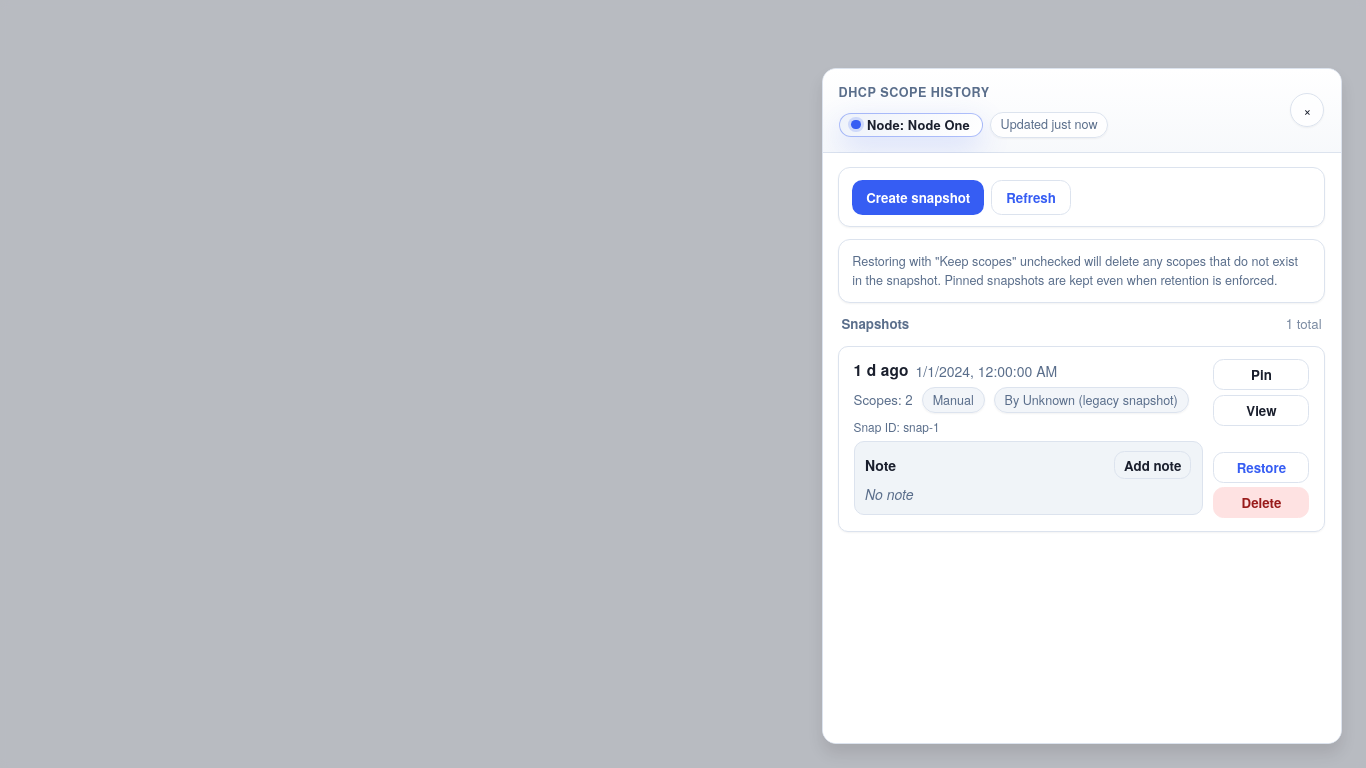
Scenario: DhcpSnapshotDrawer › loads and displays snapshot details when View is clicked
Click the button "View" at (1261, 410), box top-left (1213, 395), bottom-right (1309, 426)
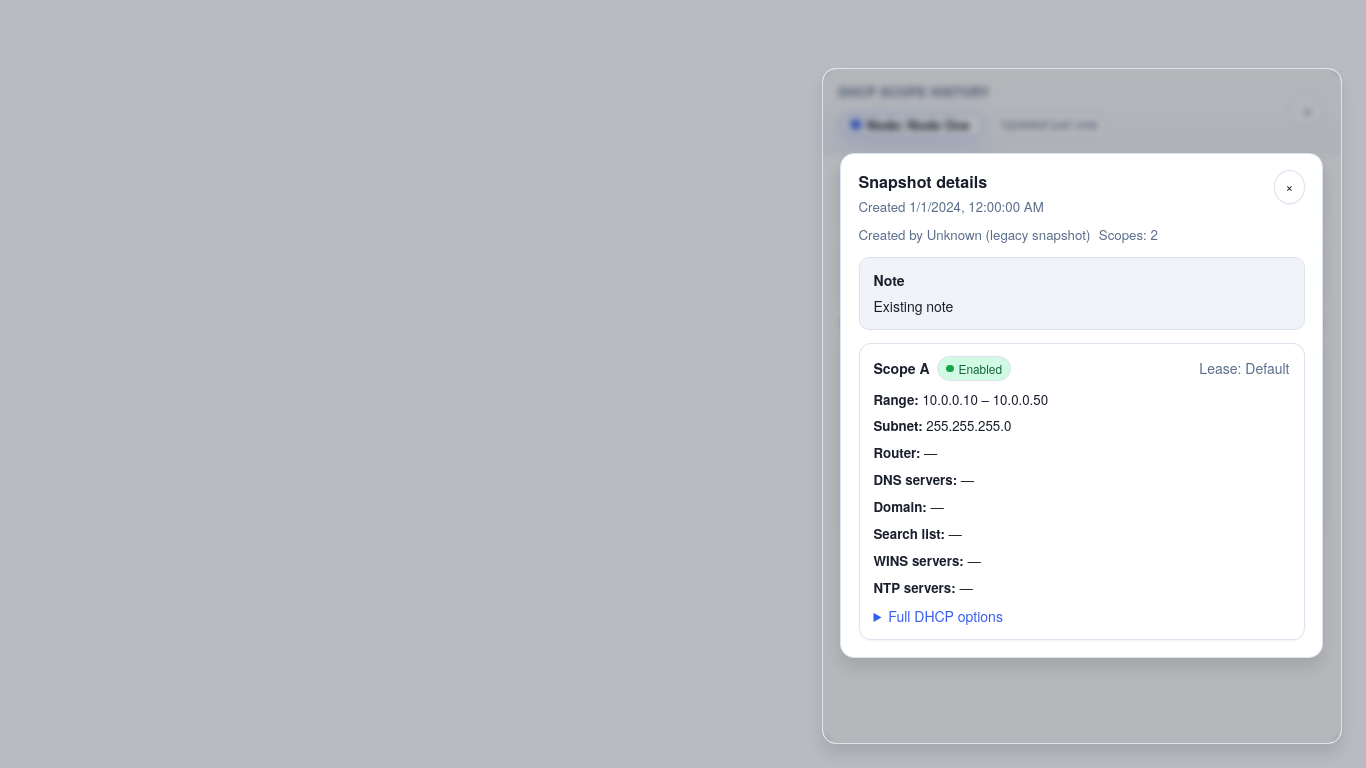
Now the heading "Snapshot details" is shown, box top-left (858, 170), bottom-right (987, 193)
Now the text "Scope A" is shown, box top-left (874, 358), bottom-right (930, 379)
